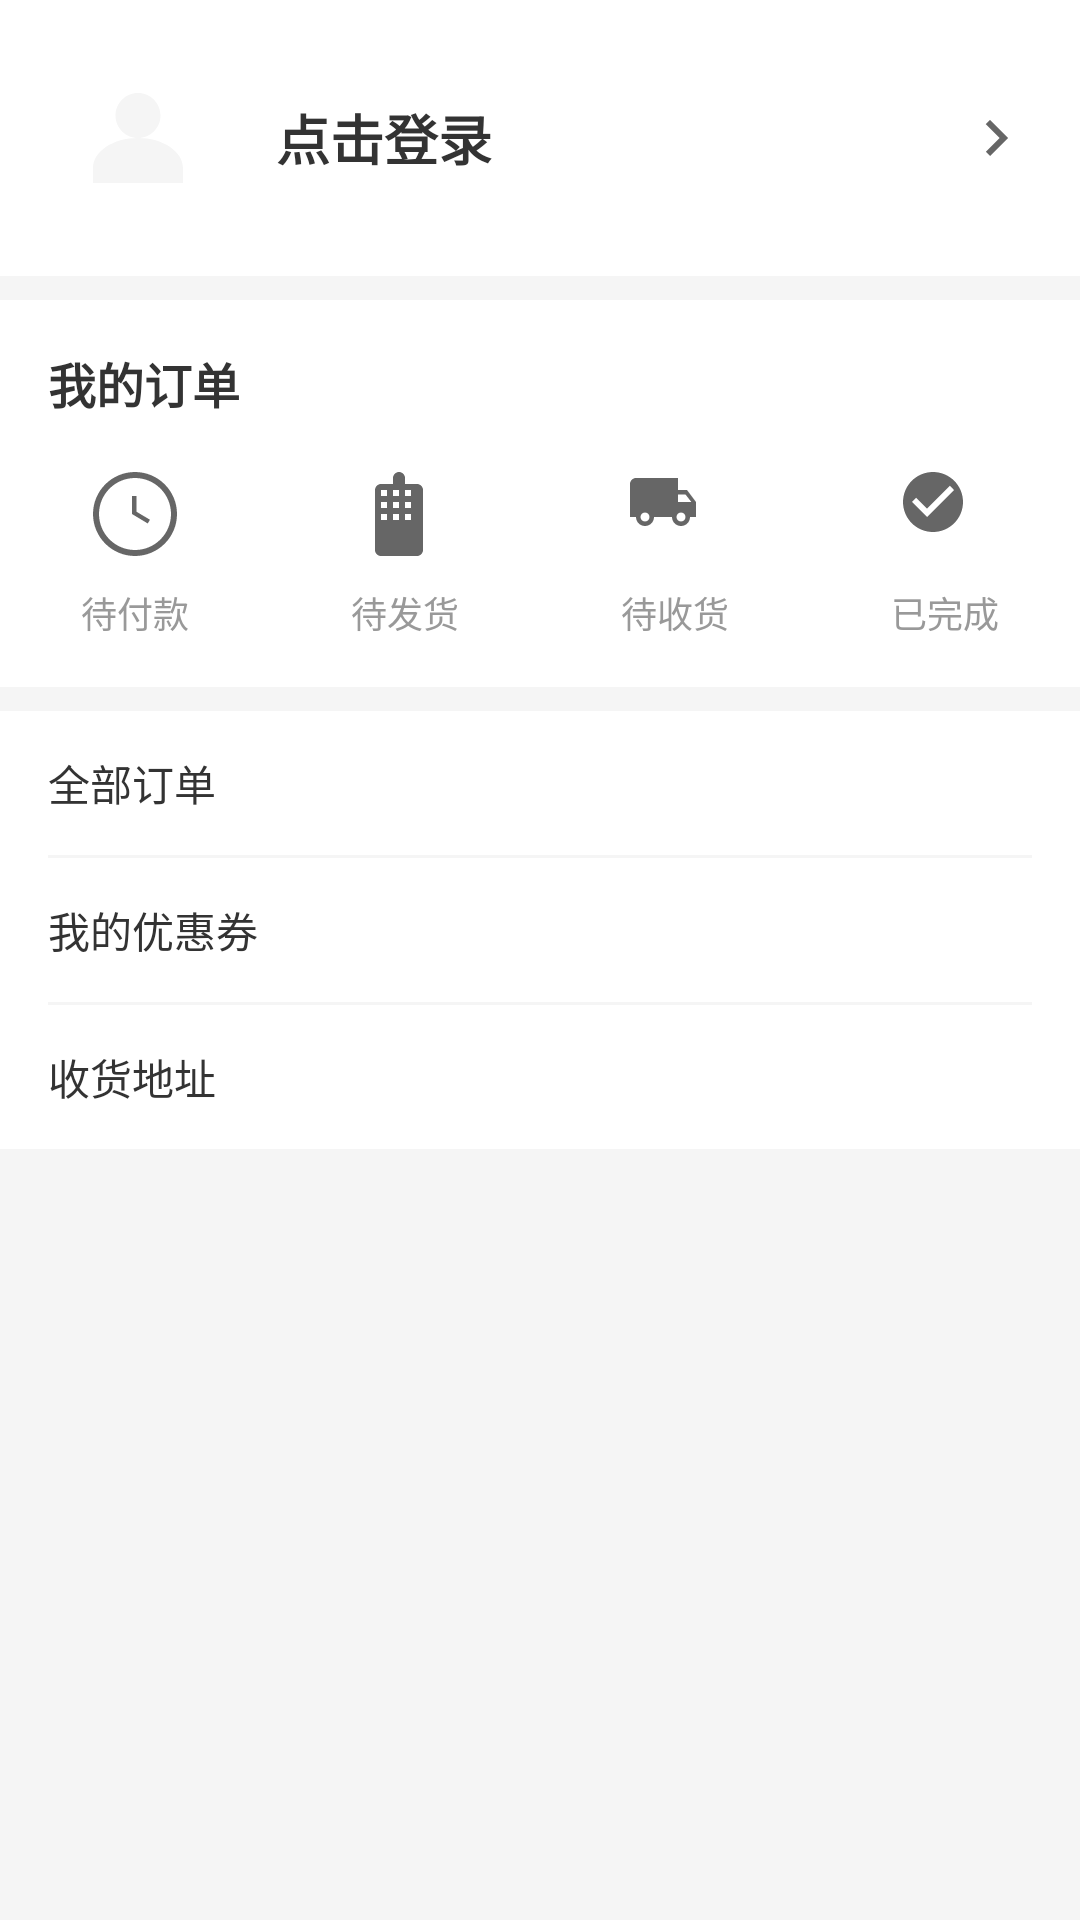

Point at icon controls on the screen. Image size 1080×1920, points as [x,y].
arrow right: [997,138]
completed: [933,502]
pending receive: [663,502]
